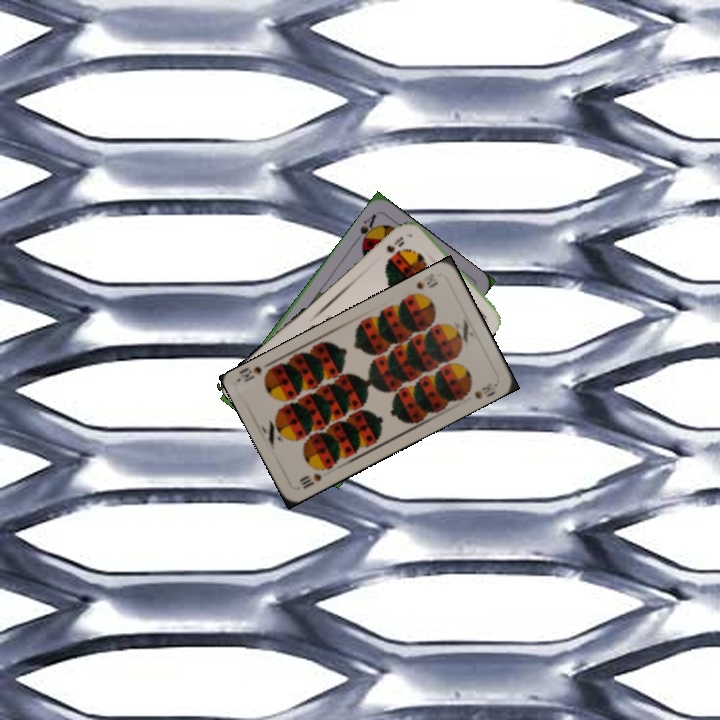S10: (406, 269, 440, 298), (295, 469, 324, 492)
SA: (351, 210, 379, 248)
SO: (382, 232, 407, 255)
